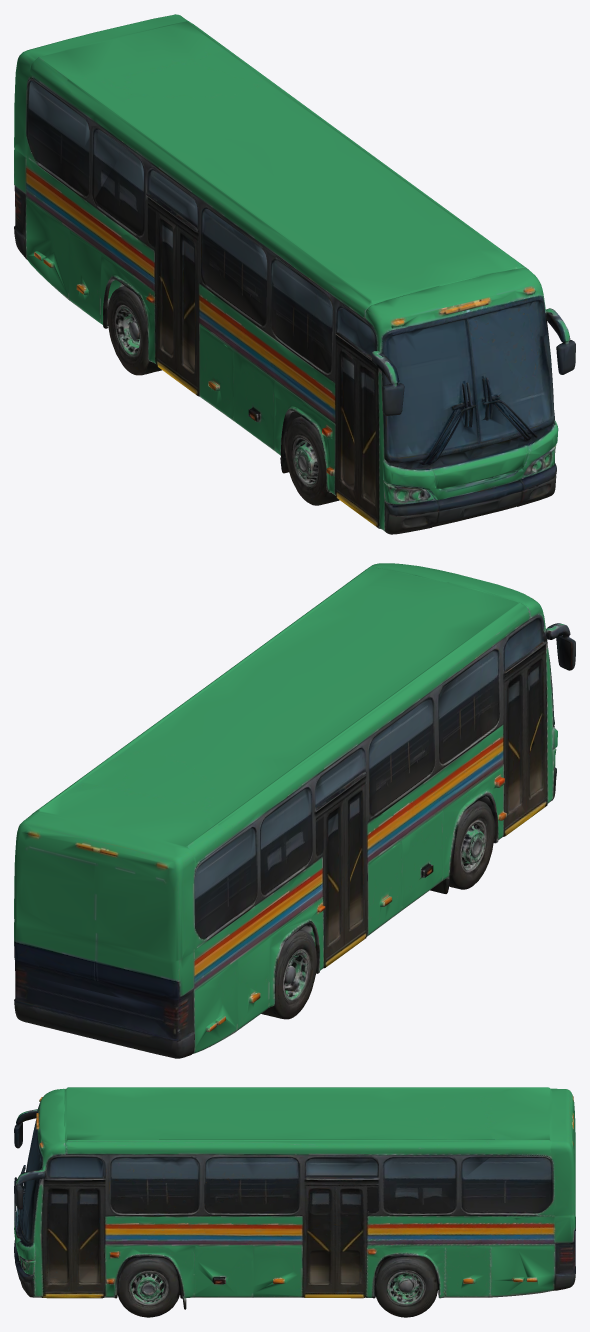
Rendered from car-bus-green-v3.glb.
3 views of the same model, one above another, from view 1: azimuth 30°, elevation 25°; view 2: azimuth 150°, elevation 25°; view 3: azimuth 270°, elevation 25° (orthographic). The views are drawn at different scales.
Parts seen in each view (by area): view 1: node_0; view 2: node_0; view 3: node_0.
Part boxes in pixels (x1,y1,x2,y2): node_0: (14,14,575,534); node_0: (14,563,575,1058); node_0: (14,1087,575,1317).
Size of the model in its own units: 0.324 by 0.3901 by 1.13.
1 material, 1 textured.
